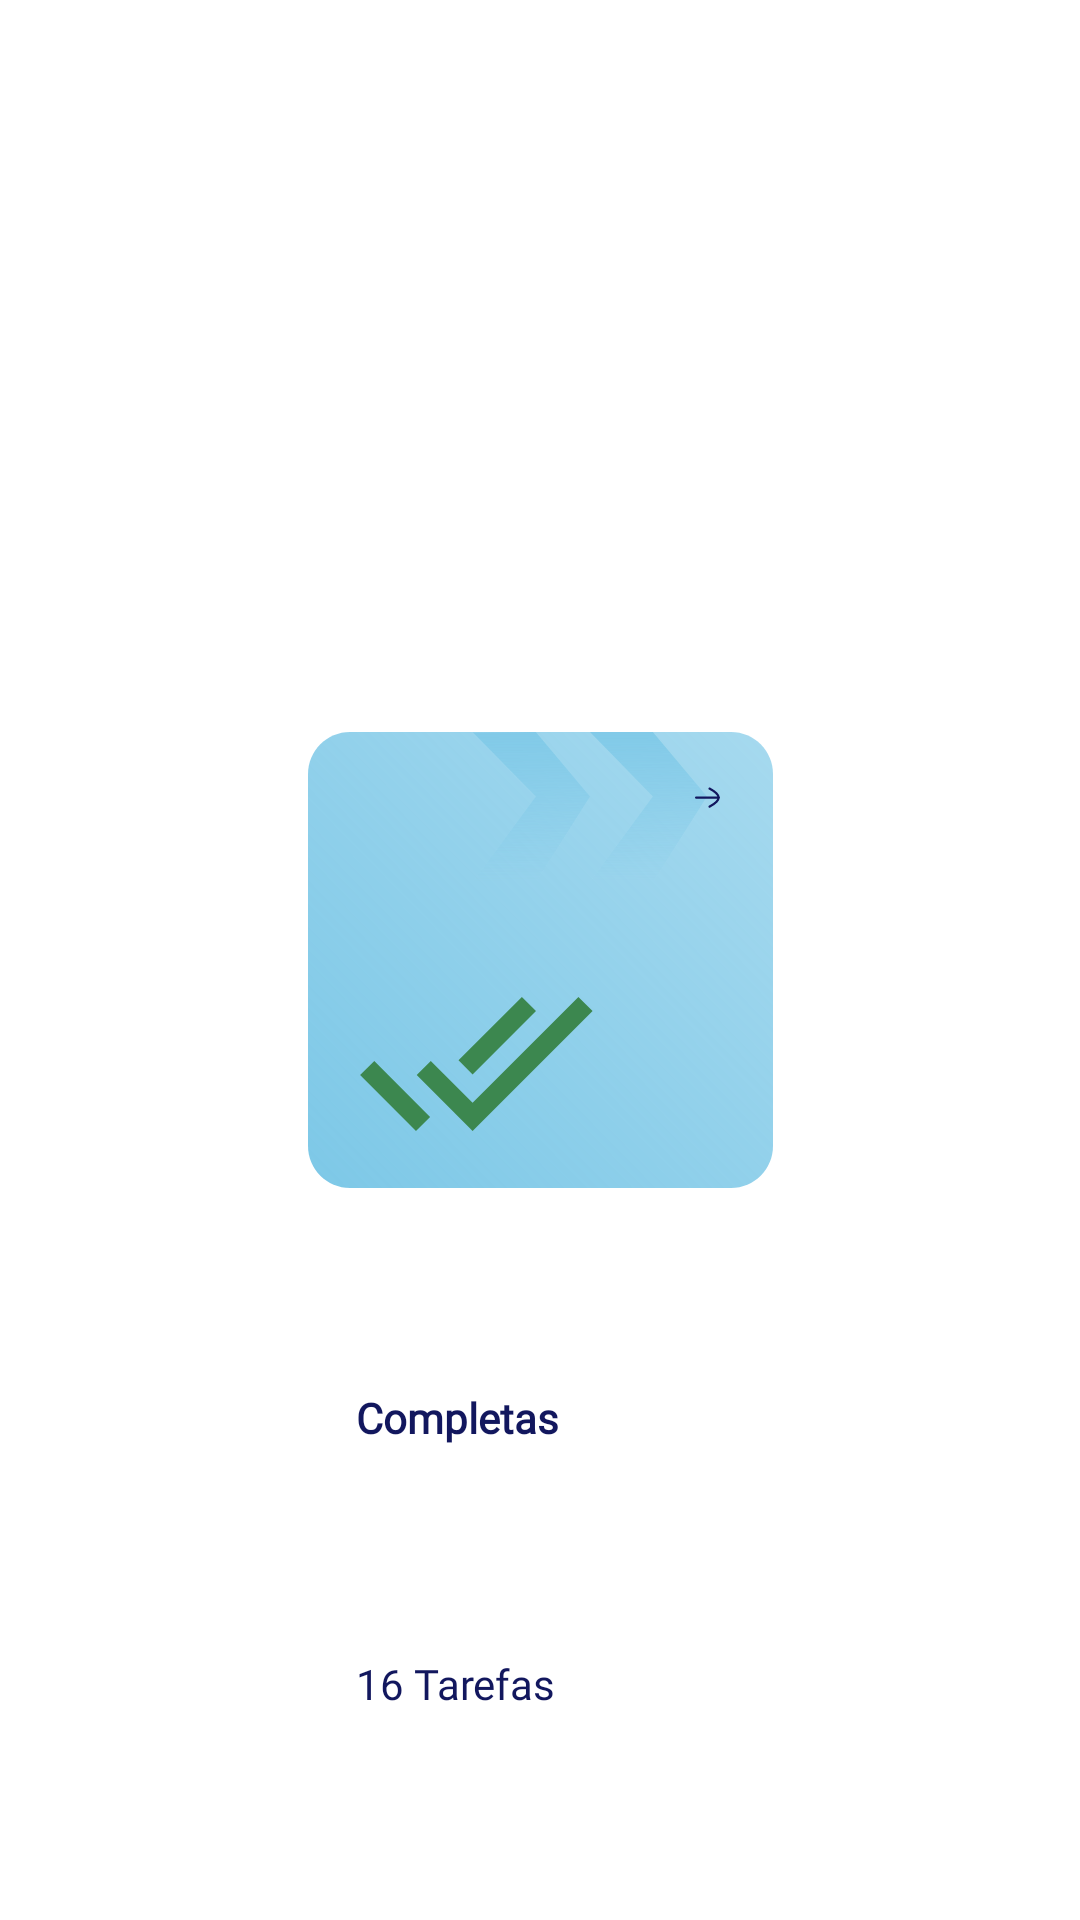

Where icons sit on this 1080×1920 app screen, as (x1, y1, x2, y2):
arrow right: (695, 787, 720, 808)
done all: (360, 997, 593, 1131)
